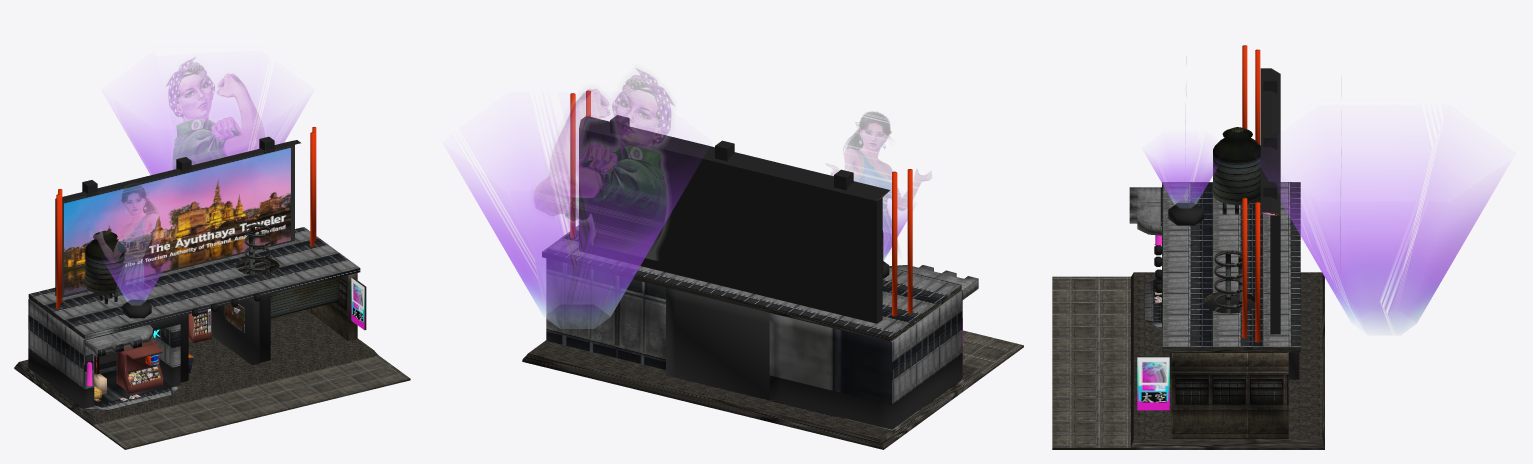
The model's file is neo-storefront.glb.
The picture shows the model from 3 angles, left to right: view 1: azimuth 30°, elevation 25°; view 2: azimuth 150°, elevation 25°; view 3: azimuth 270°, elevation 25°; orthographic projection. The views are drawn at different scales.
Visible parts, largest first — view 1: Cube.023_Banner_0, Cube.022_Road_0, Cube.022_Grey_0, Cube.022_Sketch_0, Cylinder.027_lase_0, Plane.013_Women_0, Cube_Road_0, Plane.012_MotionPink_0, Cylinder.018_GarageDoor_0, Cube_Dark_0, Cube.016_Wall_0, Cube.021_wallx_0 (+14 smaller); view 2: Cube.023_Black_0, Cylinder.027_lase_0, Plane.013_Women_0, Cube_Road_0, Cube.022_Grey_0, Cube.021_Road_0, Cube.016_Wall_0, Cube.022_Road_0, Cube_Dark_0, Plane.012_MotionPink_0, Cylinder.019_ArcadeG_0, Cube.022_Sketch_0 (+3 smaller); view 3: Cylinder.027_lase_0, Cube.022_Road_0, Cube.022_Sketch_0, Cube.022_Grey_0, Cube.021_wallx_0, Cube.023_Black_0, Cylinder.018_GarageDoor_0, Cylinder.026_lase_0, Cube.032_Shark_0, Cylinder.020_ArcadeG_0, Cube.001_Road_0, Cylinder.019_ArcadeG_0 (+5 smaller).
Part boxes in pixels (x1,y1,x2,y2): Cube.023_Banner_0: (62, 144, 294, 297); Cube.022_Road_0: (29, 227, 360, 339); Cube.022_Grey_0: (14, 258, 410, 449); Cube.022_Sketch_0: (93, 355, 410, 448); Cylinder.027_lase_0: (113, 95, 304, 174); Plane.013_Women_0: (165, 56, 266, 169); Cube_Road_0: (28, 298, 180, 410); Plane.012_MotionPink_0: (89, 184, 172, 292); Cylinder.018_GarageDoor_0: (85, 230, 125, 294); Cube_Dark_0: (28, 316, 180, 408); Cube.016_Wall_0: (212, 298, 259, 365); Cube.021_wallx_0: (236, 261, 357, 341); Cube.023_Black_0: (579, 116, 890, 323); Cylinder.027_lase_0: (455, 145, 698, 328); Plane.013_Women_0: (533, 67, 675, 259); Cube_Road_0: (769, 290, 962, 430); Cube.022_Grey_0: (522, 252, 1023, 449); Cube.021_Road_0: (546, 258, 665, 369); Cube.016_Wall_0: (666, 287, 769, 400); Cube.022_Road_0: (542, 225, 961, 336); Cube_Dark_0: (769, 354, 962, 429); Plane.012_MotionPink_0: (825, 111, 931, 247); Cylinder.019_ArcadeG_0: (892, 169, 912, 316); Cube.022_Sketch_0: (962, 330, 1023, 374); Cylinder.027_lase_0: (1266, 156, 1501, 334); Cube.022_Road_0: (1162, 182, 1300, 346); Cube.022_Sketch_0: (1052, 276, 1130, 447); Cube.022_Grey_0: (1052, 272, 1324, 449); Cube.021_wallx_0: (1171, 353, 1288, 438); Cube.023_Black_0: (1260, 68, 1280, 334); Cylinder.018_GarageDoor_0: (1213, 127, 1260, 205); Cylinder.026_lase_0: (1146, 149, 1217, 207); Cube.032_Shark_0: (1137, 357, 1169, 410); Cylinder.020_ArcadeG_0: (1242, 197, 1260, 342); Cube.001_Road_0: (1129, 187, 1161, 235); Cylinder.019_ArcadeG_0: (1242, 45, 1260, 144).
Size of the model in its own units: 2.55 by 2.25 by 2.73.
52 materials, 40 textured.
